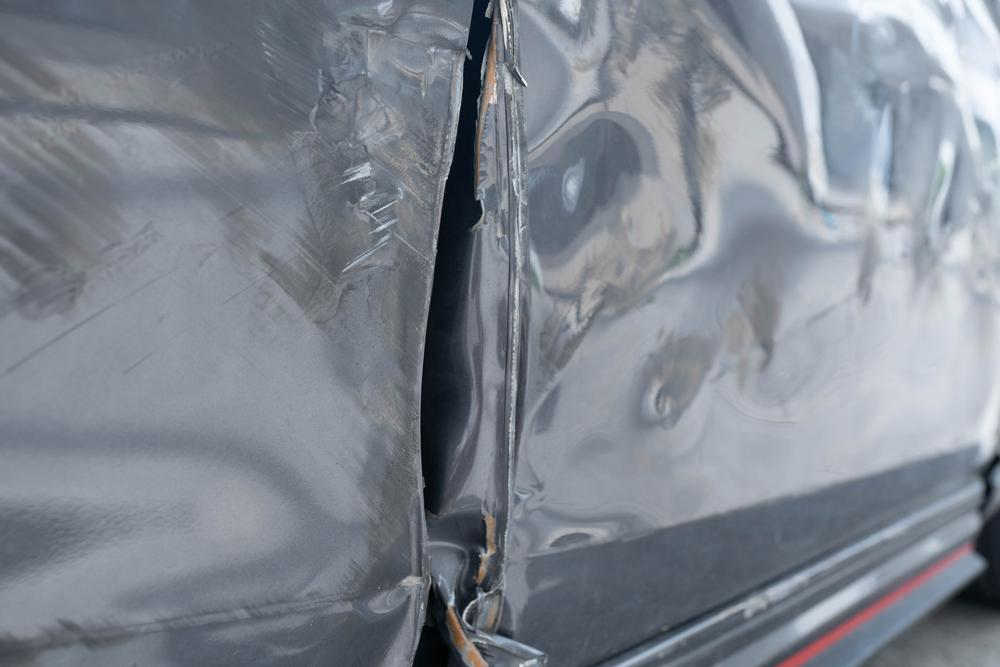dent: (498, 0, 1000, 552)
scratch: (0, 0, 483, 667)
